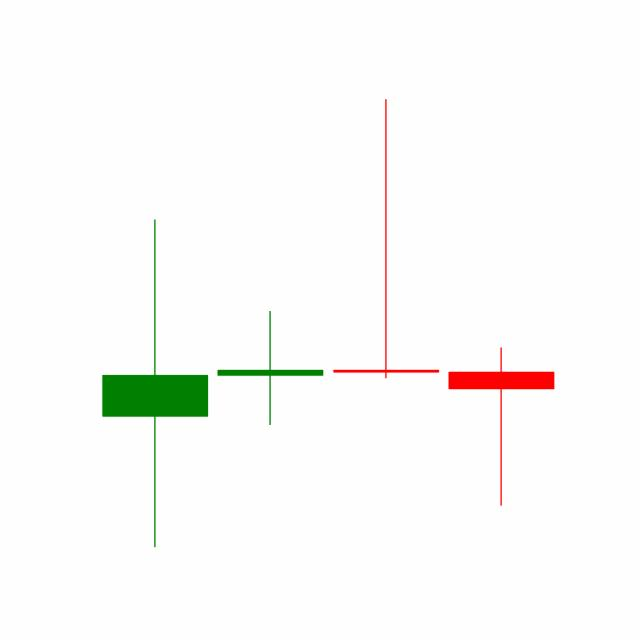Dragonfly Doji: (443, 346, 559, 508)
